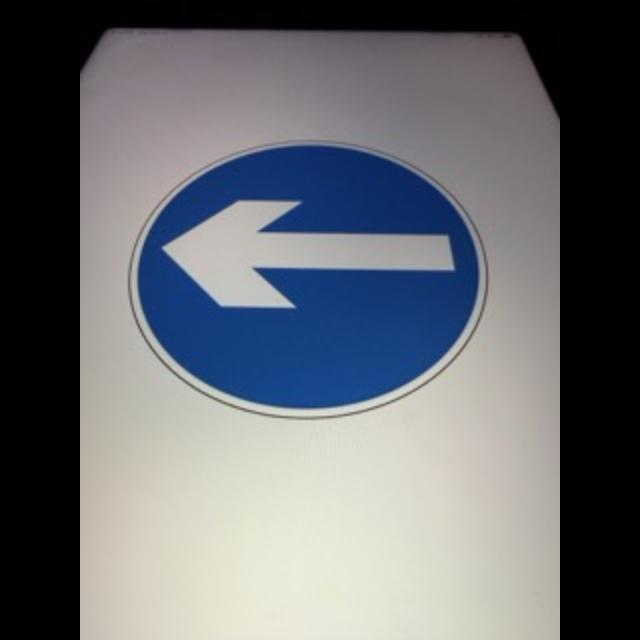TURN LEFT: (122, 137, 490, 423)
